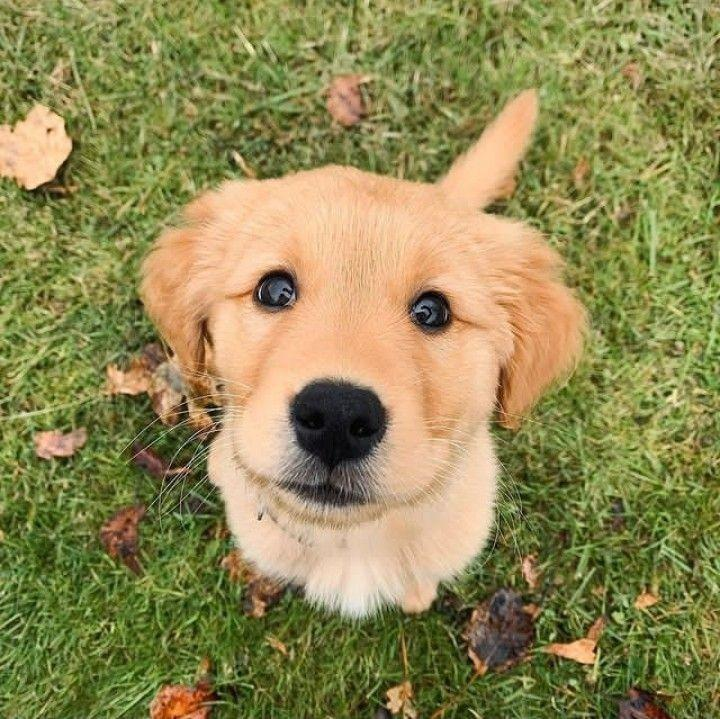puppy-dog: (138, 86, 587, 618)
